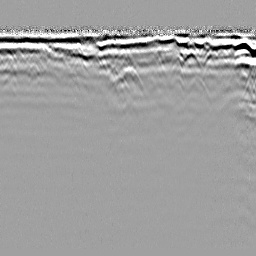cavity: (108, 62, 144, 89)
